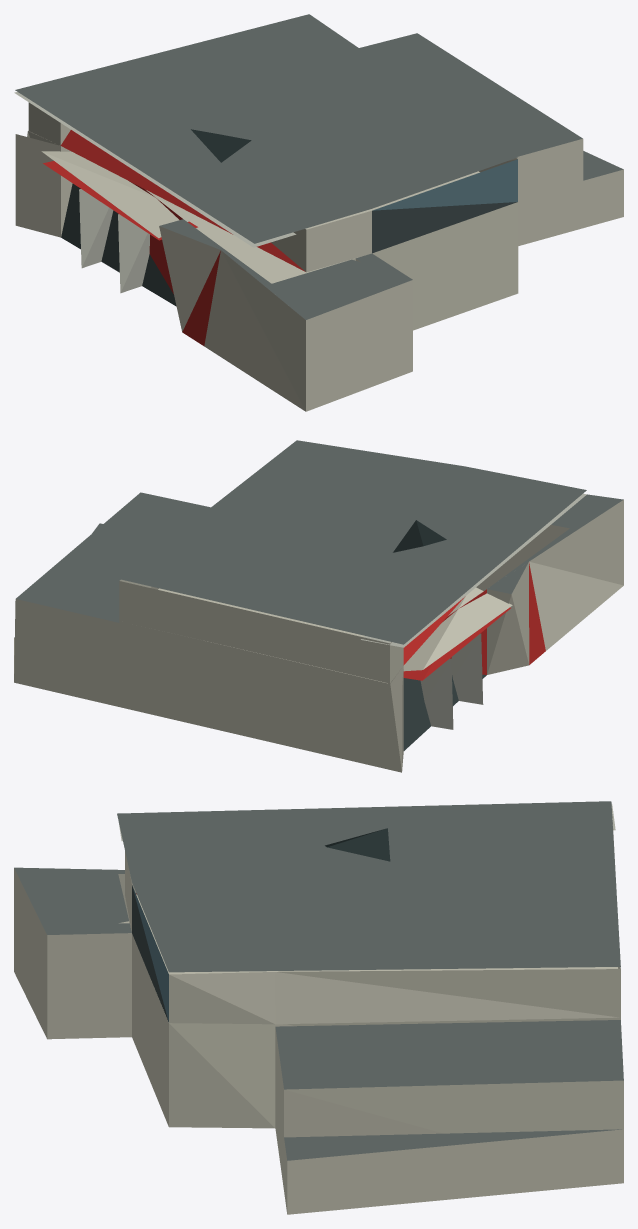
File: fire-station-teunis.lod2.glb
3 renders of one model, top to bottom at view 1: azimuth 30°, elevation 25°; view 2: azimuth 150°, elevation 25°; view 3: azimuth 270°, elevation 25°, orthographic. The views are drawn at different scales.
Parts seen in each view (by area): view 1: lod2; view 2: lod2; view 3: lod2.
Boxes of the visible parts, left/top/right/bottom form: lod2: left=14, top=14, right=623, bottom=411; lod2: left=14, top=440, right=623, bottom=772; lod2: left=14, top=801, right=623, bottom=1214.
Size of the model in its own units: 36.64 by 11.27 by 36.48.
